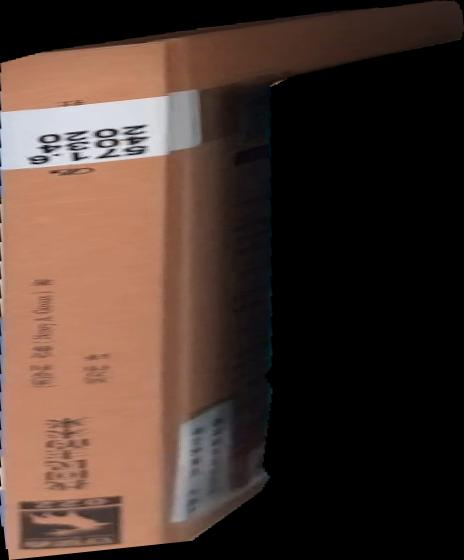reverse: (1, 1, 464, 560)
